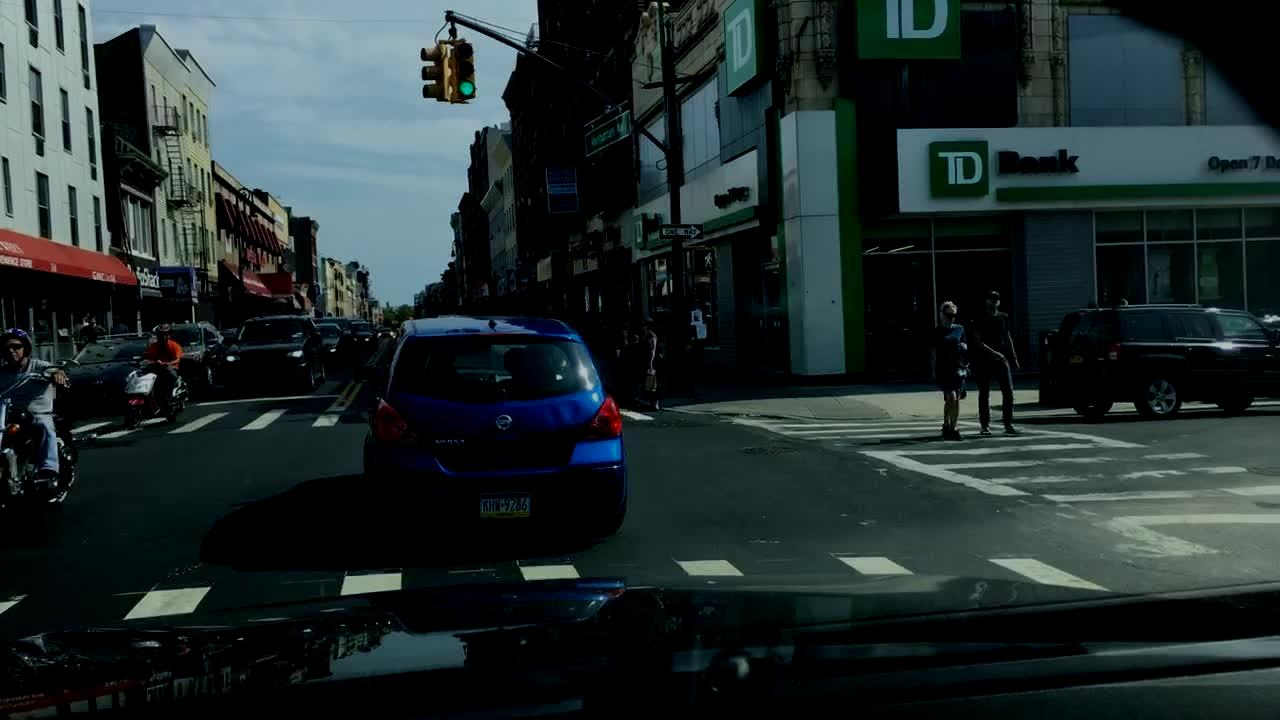Nissan: (492, 410, 518, 436)
